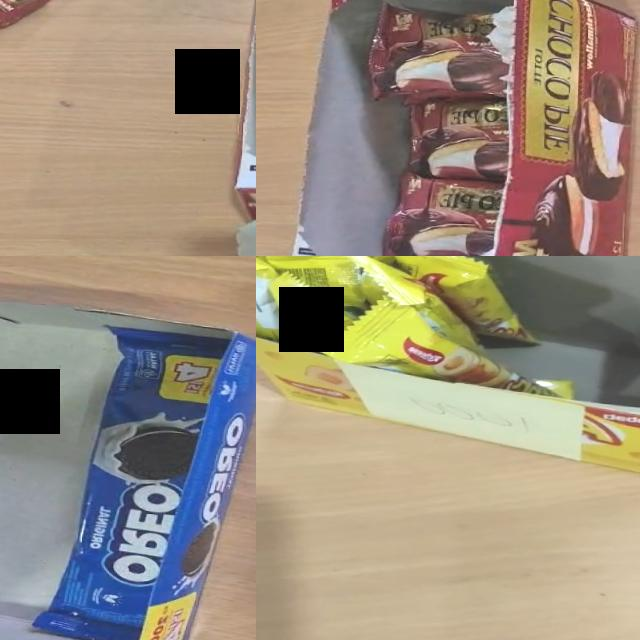Ahh: (327, 298, 556, 395), (397, 256, 537, 343), (353, 256, 479, 350), (271, 273, 358, 350), (267, 256, 363, 305), (256, 256, 302, 344)
Chocopie: (365, 0, 511, 110), (380, 170, 503, 256), (404, 94, 510, 182)
Oreo: (31, 322, 256, 640)
